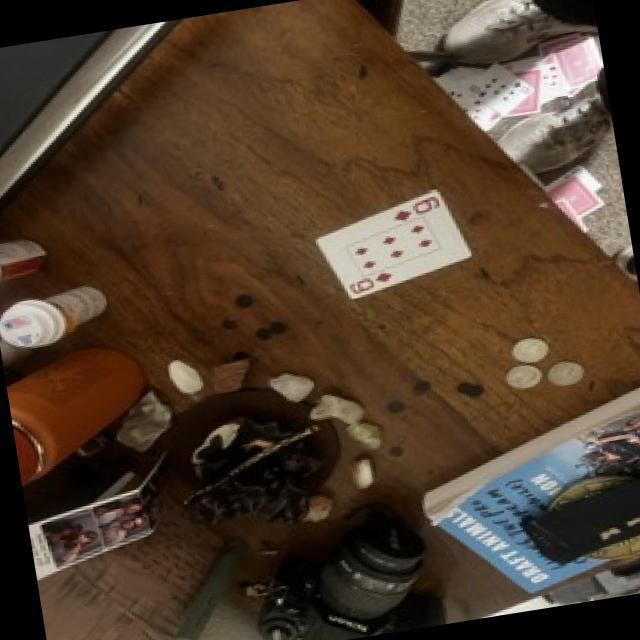6 of diamonds: (316, 190, 471, 297)
